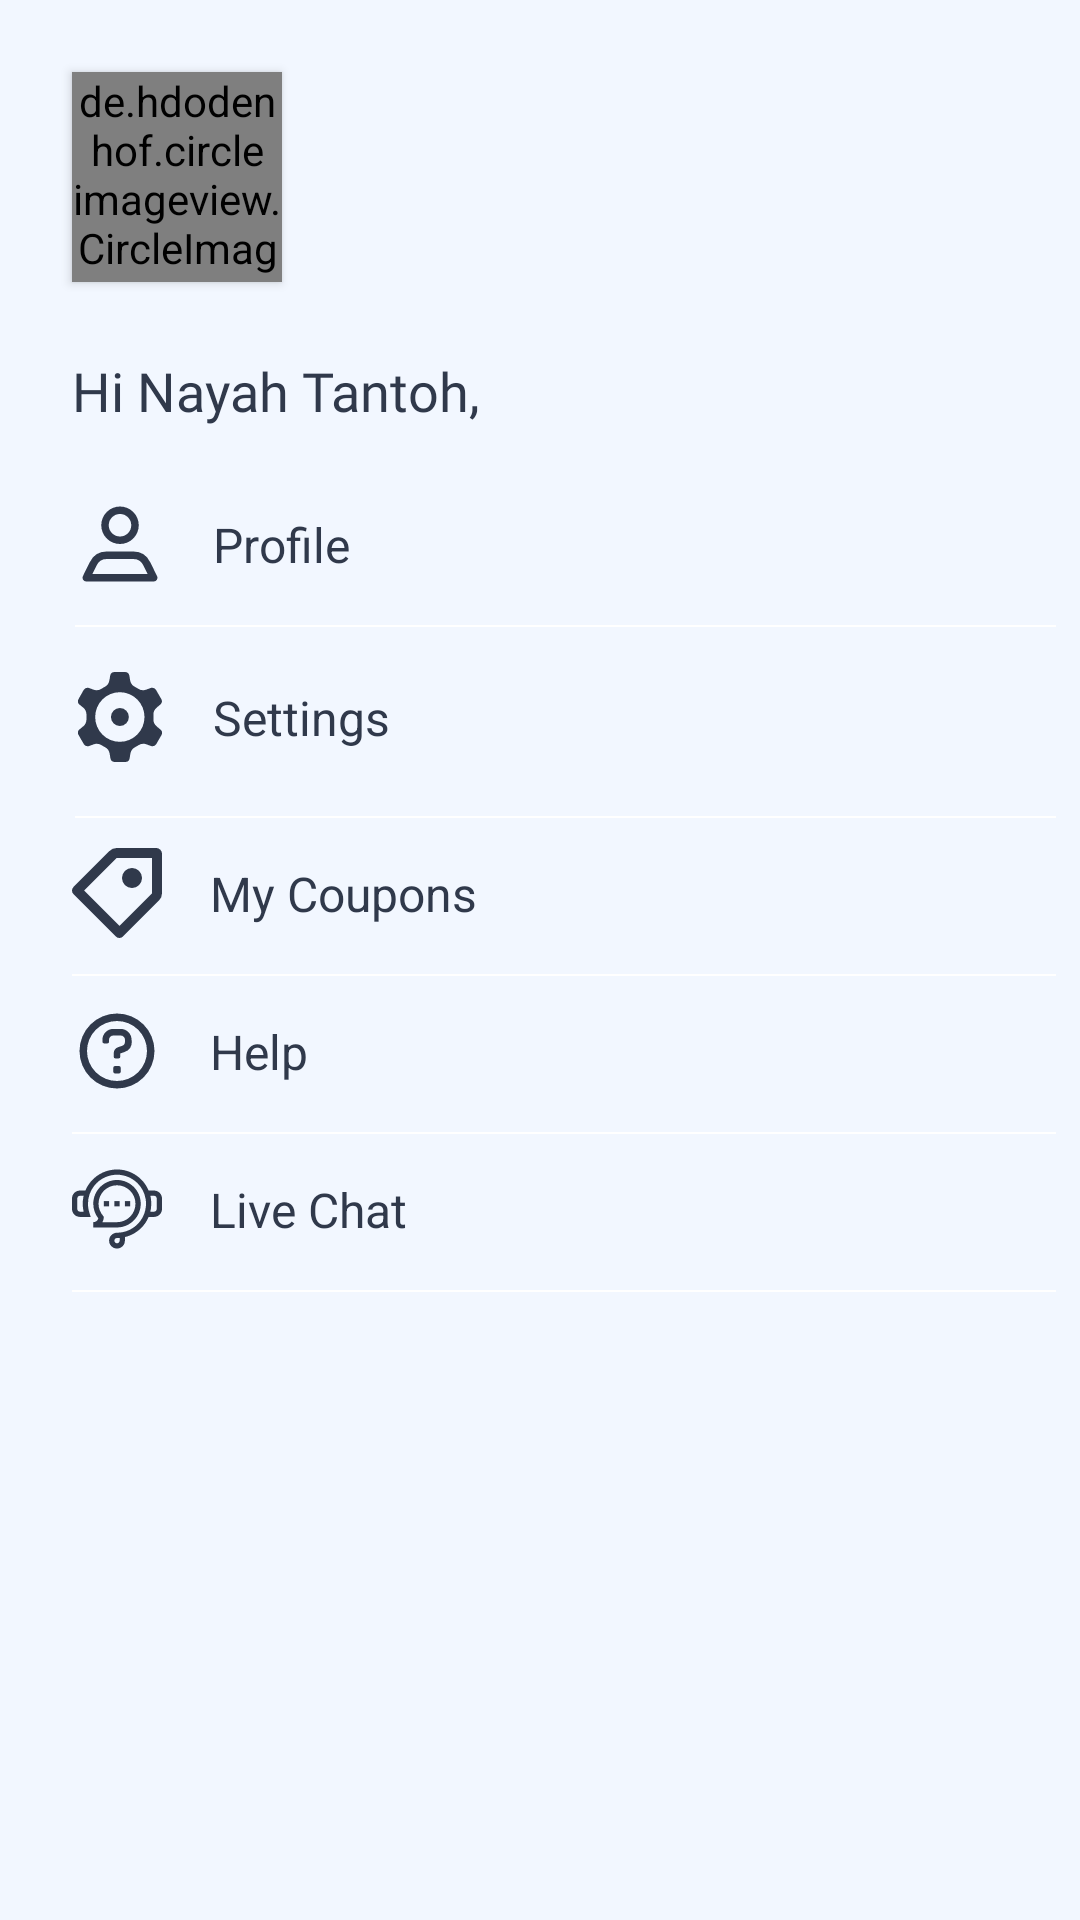

Where to tap for icons on this 1080w x 1920h app screen, as (x=x, y=y):
user: (x=120, y=544)
